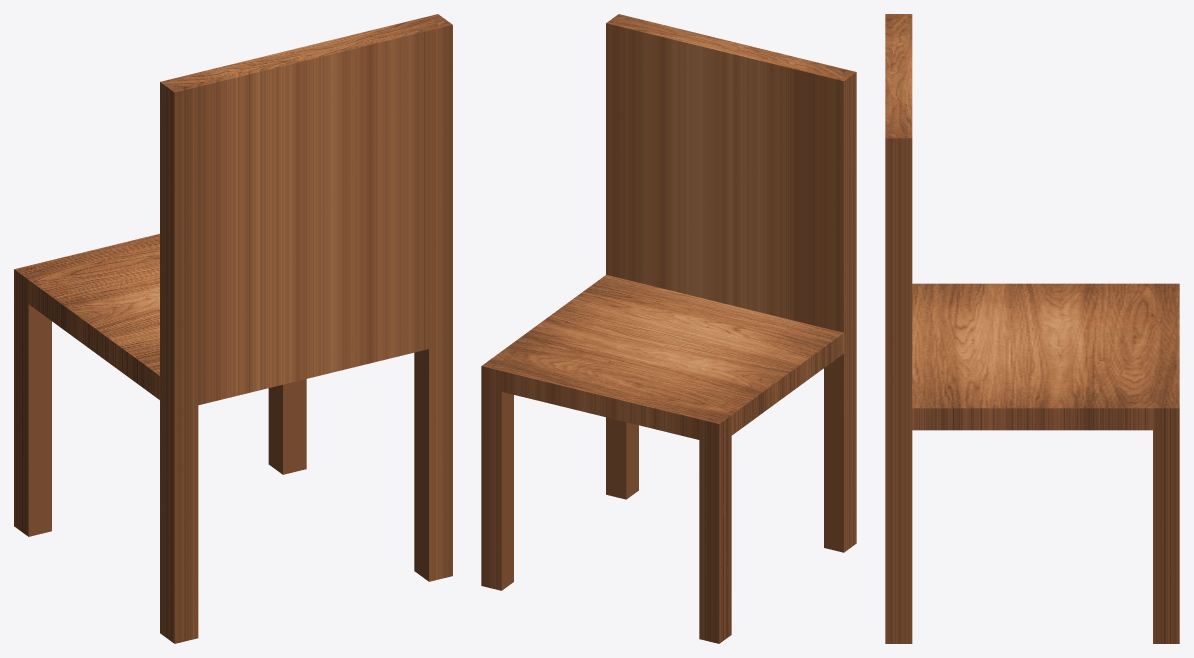
File: Chair.fbx
3 views of the same model, side by side, from view 1: azimuth 30°, elevation 25°; view 2: azimuth 150°, elevation 25°; view 3: azimuth 270°, elevation 25° (orthographic). The views are drawn at different scales.
Parts seen in each view (by area): view 1: Plane; view 2: Plane; view 3: Plane.
Boxes of the visible parts, <box> form: Plane: <box>14,14,452,643</box>; Plane: <box>481,14,856,643</box>; Plane: <box>885,14,1179,643</box>.
Size of the model in its own units: 200 by 379 by 200.
1 material, 1 textured.
